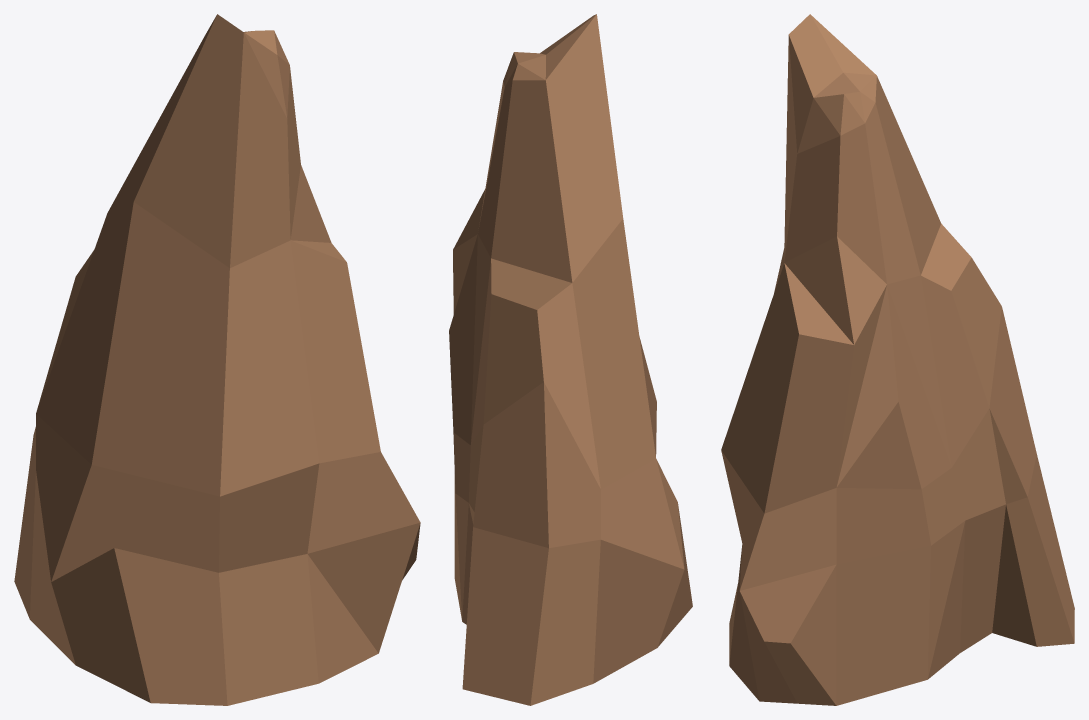
The model's file is Shore_rocks_04.fbx.
3 views of the same model, side by side, from view 1: azimuth 30°, elevation 25°; view 2: azimuth 150°, elevation 25°; view 3: azimuth 270°, elevation 25° (orthographic). The views are drawn at different scales.
Parts seen in each view (by area): view 1: shore_rock_04; view 2: shore_rock_04; view 3: shore_rock_04.
Boxes of the visible parts, x1,y1,x2,y2 form: shore_rock_04: [14, 14, 420, 705]; shore_rock_04: [449, 14, 692, 705]; shore_rock_04: [721, 14, 1074, 705].
Bounding box in the file's own units: 347 × 707 × 363.
